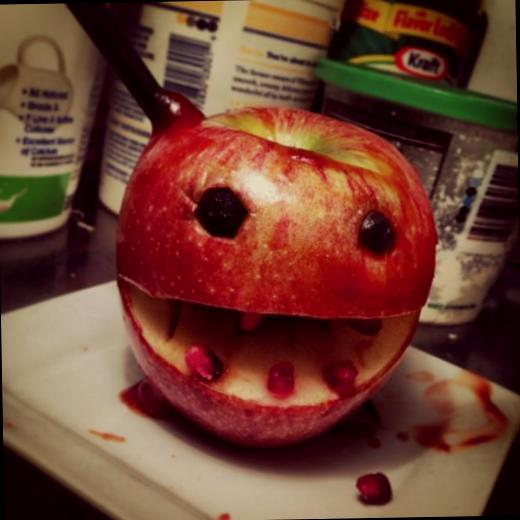Apple: (102, 85, 436, 422)
